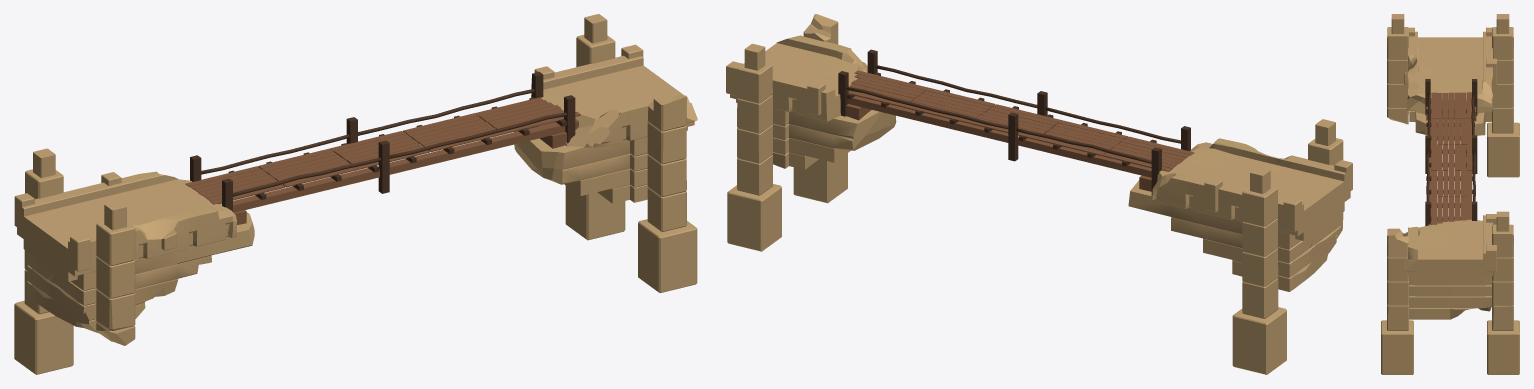
File: RuinsArea3Bridge_02.fbx
3 renders of one model, left to right at view 1: azimuth 30°, elevation 25°; view 2: azimuth 150°, elevation 25°; view 3: azimuth 270°, elevation 25°, orthographic. The views are drawn at different scales.
Parts seen in each view (by area): view 1: bridge3Base, boards.005; view 2: bridge3Base, boards.005; view 3: bridge3Base, boards.005.
Boxes of the visible parts, x1,y1,x2,y2 form: bridge3Base: (14,14,697,374); boards.005: (185,72,580,224); bridge3Base: (726,14,1352,374); boards.005: (838,49,1194,191); bridge3Base: (1381,14,1519,374); boards.005: (1425,79,1477,225).
Size of the model in its own units: 5608 by 1810 by 1478.
